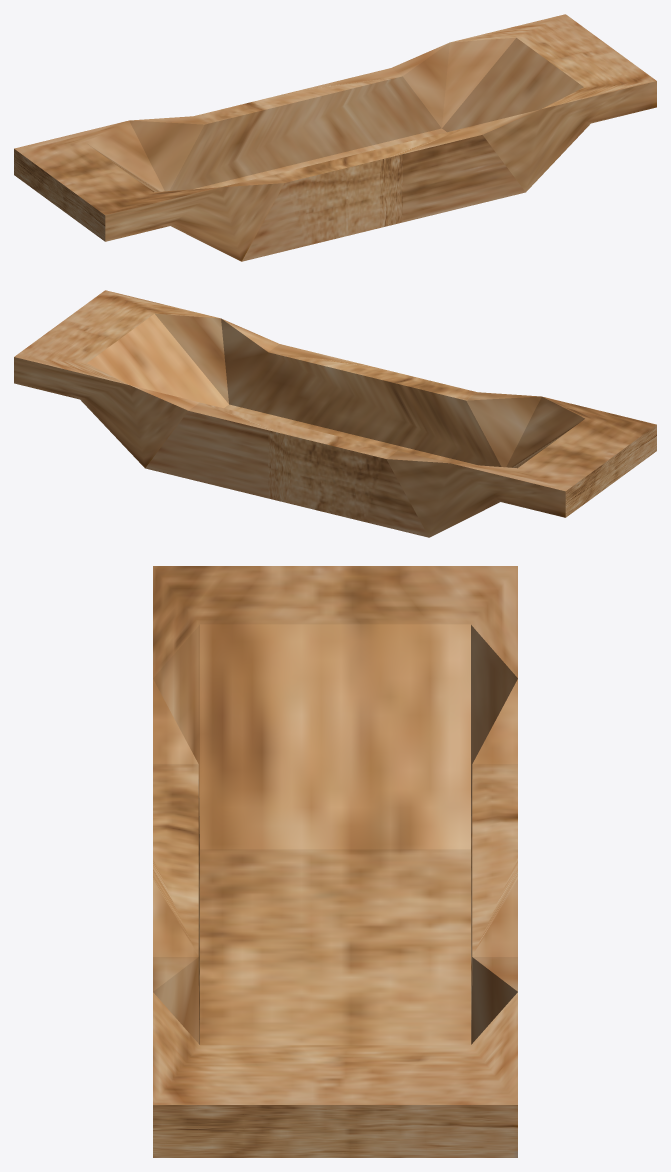
The model's file is canoe_pesq.dae.
The picture shows the model from 3 angles, top to bottom: view 1: azimuth 30°, elevation 25°; view 2: azimuth 150°, elevation 25°; view 3: azimuth 270°, elevation 25°; orthographic projection. The views are drawn at different scales.
Parts seen in each view (by area): view 1: pesqueiro; view 2: pesqueiro; view 3: pesqueiro.
Boxes of the visible parts, bbox=[...] form: pesqueiro: bbox=[14, 14, 656, 261]; pesqueiro: bbox=[14, 290, 656, 537]; pesqueiro: bbox=[153, 566, 517, 1157].
Bounding box in the file's own units: 4.51 × 1.29 × 0.6225.
